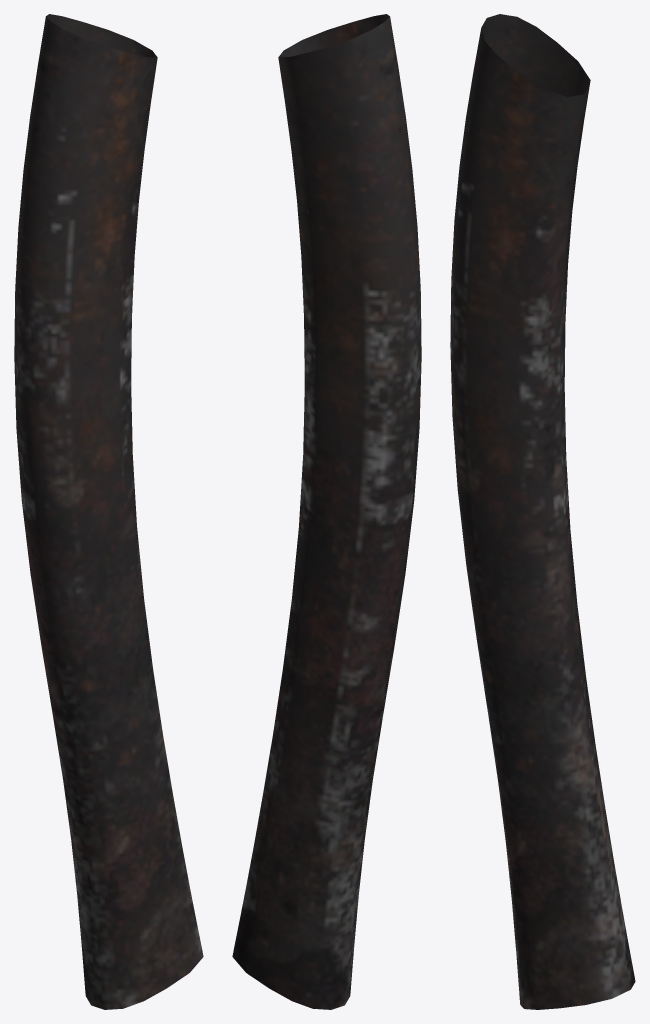
Rendered from wm_dol_goldur_1h_sword_a01_handle.fbx.
3 views of the same model, side by side, from view 1: azimuth 30°, elevation 25°; view 2: azimuth 150°, elevation 25°; view 3: azimuth 330°, elevation 25° (orthographic). The views are drawn at different scales.
Parts seen in each view (by area): view 1: wm_dol_goldur_1h_sword_a01_handle; view 2: wm_dol_goldur_1h_sword_a01_handle; view 3: wm_dol_goldur_1h_sword_a01_handle.
Part boxes in pixels (x1,y1,x2,y2): wm_dol_goldur_1h_sword_a01_handle: (14, 14, 203, 1009); wm_dol_goldur_1h_sword_a01_handle: (232, 14, 421, 1009); wm_dol_goldur_1h_sword_a01_handle: (450, 14, 635, 1009).
Size of the model in its own units: 0.0584 by 0.0228 by 0.3095.
1 material, 1 textured.
